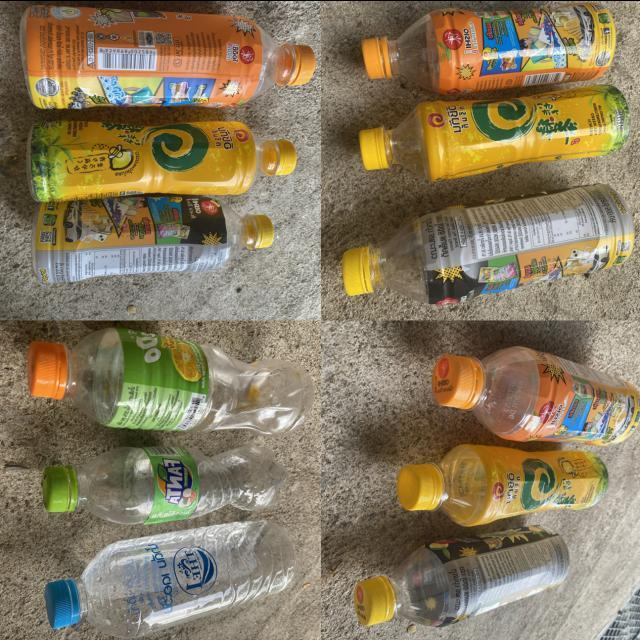plastik: (343, 183, 634, 304), (20, 2, 316, 108), (28, 327, 313, 435), (45, 519, 296, 637), (360, 84, 631, 180), (362, 2, 615, 93), (355, 525, 570, 627), (28, 120, 297, 201), (32, 194, 274, 283), (432, 346, 640, 445), (43, 446, 288, 523), (397, 443, 608, 525)
